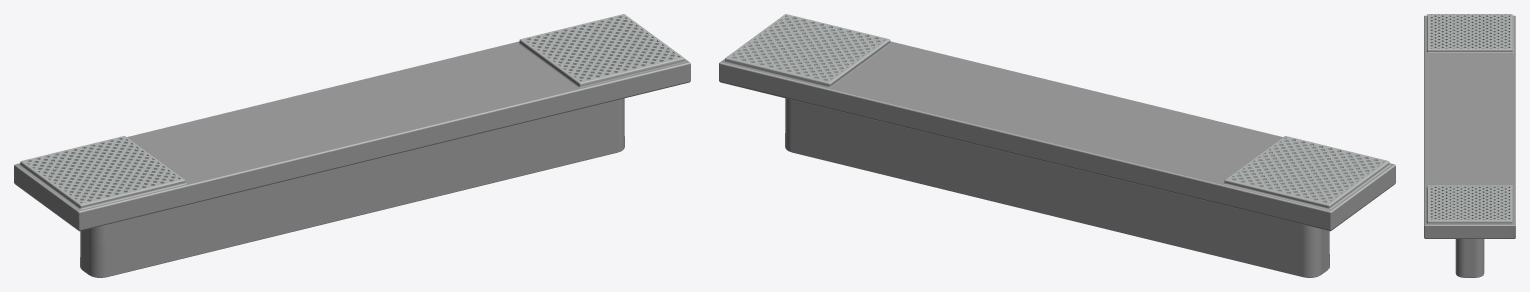
The model's file is Pull_128_Type_B.glb.
The picture shows the model from 3 angles, left to right: view 1: azimuth 30°, elevation 25°; view 2: azimuth 150°, elevation 25°; view 3: azimuth 270°, elevation 25°; orthographic projection. The views are drawn at different scales.
Parts seen in each view (by area): view 1: B_Shell_Body, B_Shell_Top, B_Shell_Pattern_Right, B_Shell_Pattern_Left, Shell (×3); view 2: B_Shell_Body, B_Shell_Top, B_Shell_Pattern_Right, B_Shell_Pattern_Left, Shell (×3); view 3: B_Shell_Top, B_Shell_Pattern_Right, B_Shell_Pattern_Left, B_Shell_Body, Shell (×3).
Part boxes in pixels (x1=…): B_Shell_Body: x1=14, y1=64, x2=690, y2=277; B_Shell_Top: x1=15, y1=41, x2=689, y2=211; B_Shell_Pattern_Right: x1=22, y1=136, x2=183, y2=204; B_Shell_Pattern_Left: x1=521, y1=14, x2=682, y2=82; Shell (×3): x1=14, y1=14, x2=690, y2=212; B_Shell_Body: x1=719, y1=64, x2=1395, y2=277; B_Shell_Top: x1=720, y1=41, x2=1394, y2=211; B_Shell_Pattern_Right: x1=1226, y1=136, x2=1387, y2=204; B_Shell_Pattern_Left: x1=727, y1=14, x2=888, y2=82; Shell (×3): x1=719, y1=14, x2=1395, y2=212; B_Shell_Top: x1=1425, y1=15, x2=1514, y2=224; B_Shell_Pattern_Right: x1=1428, y1=14, x2=1511, y2=49; B_Shell_Pattern_Left: x1=1428, y1=185, x2=1511, y2=220; B_Shell_Body: x1=1424, y1=226, x2=1515, y2=277; Shell (×3): x1=1424, y1=14, x2=1515, y2=225.
Bounding box in the file's own units: 157 × 24.15 × 29.
2 materials, 1 textured.
